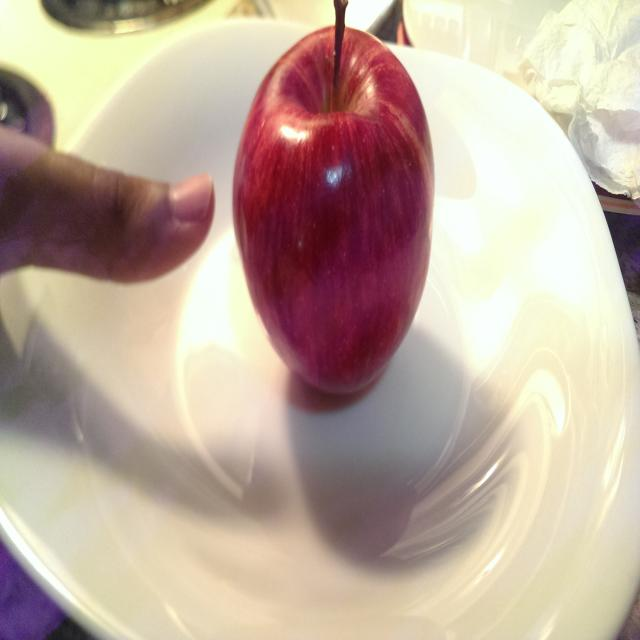apple: (230, 13, 442, 416)
